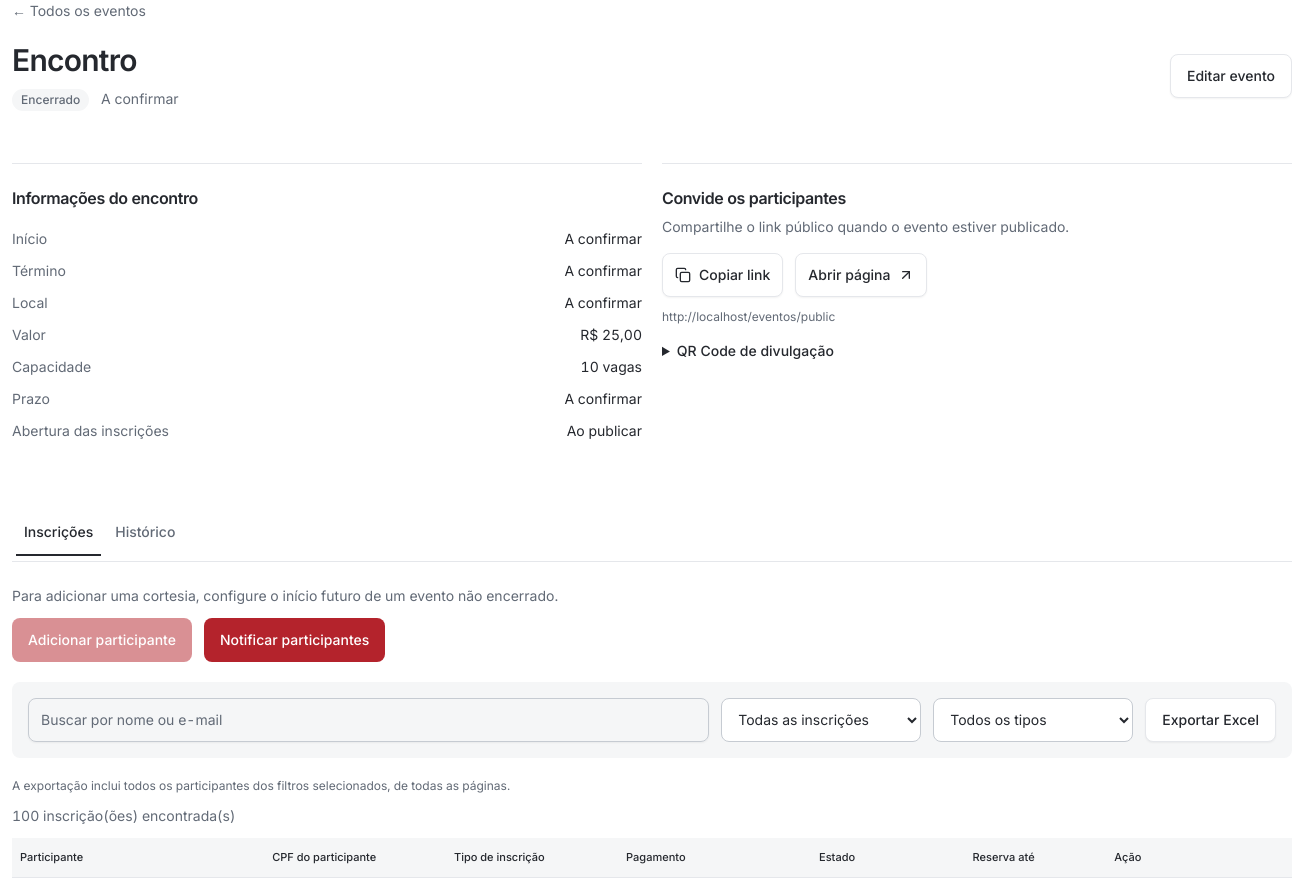
Test: Navegação das abas do evento › retorna à primeira página ao trocar de aba e mantém os filtros das inscrições
Select "Confirmadas" in the dropdown named "Estado da inscrição": (821, 720) [721,698,921,742]
(page scrolled)
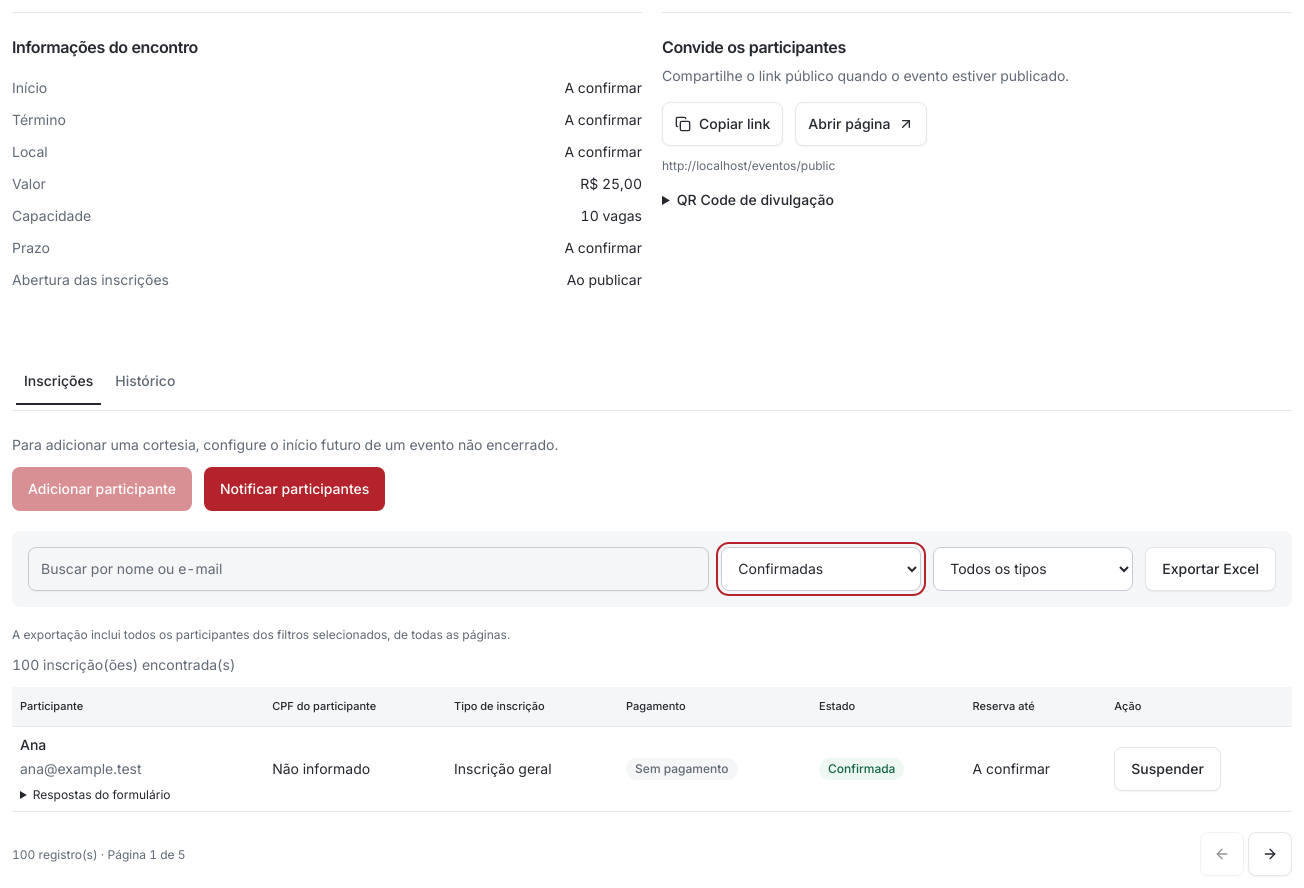
Click the button named "Próxima página": (1270, 854) [1248,832,1292,876]
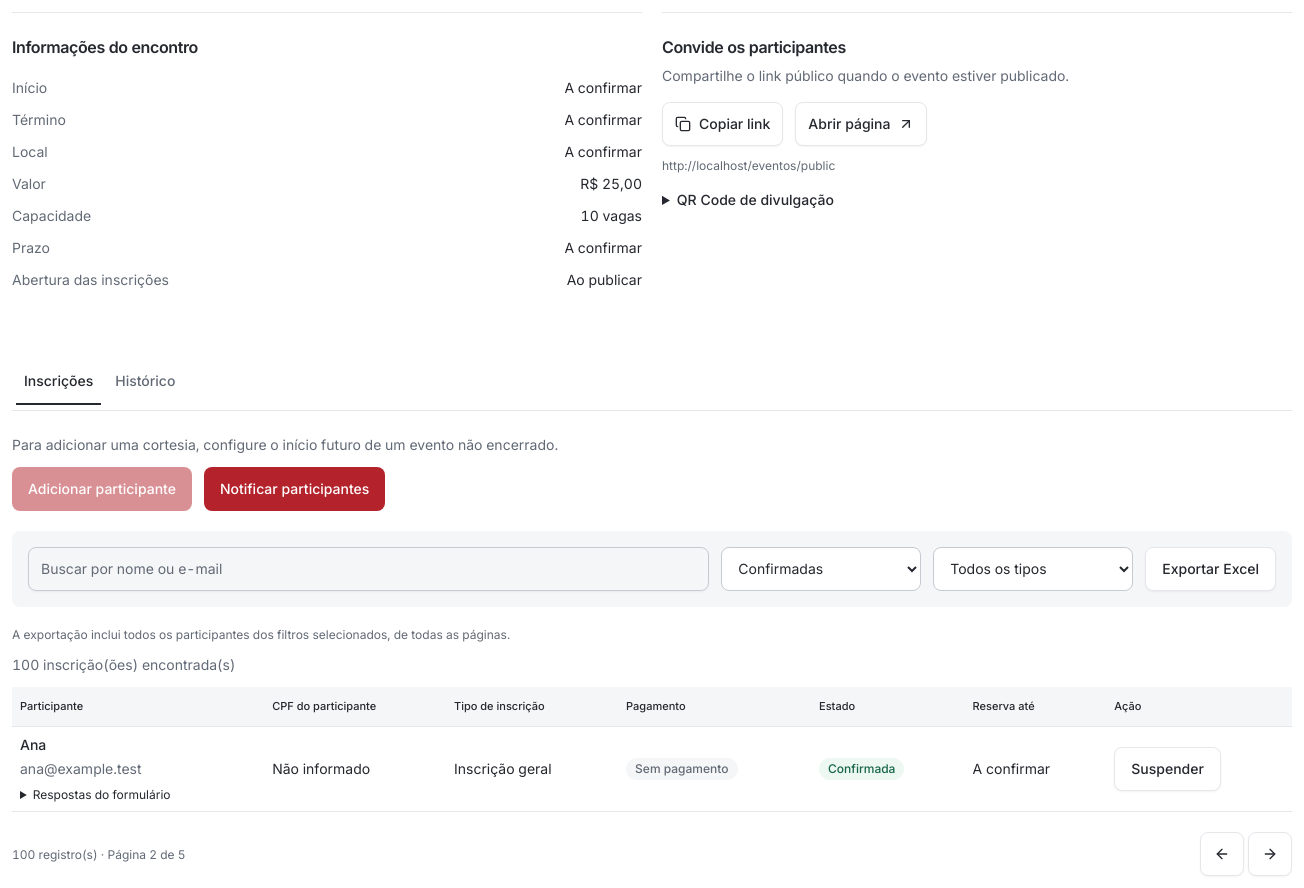
Click the tab "Histórico": (145, 381) [106,361,184,401]
(page scrolled)
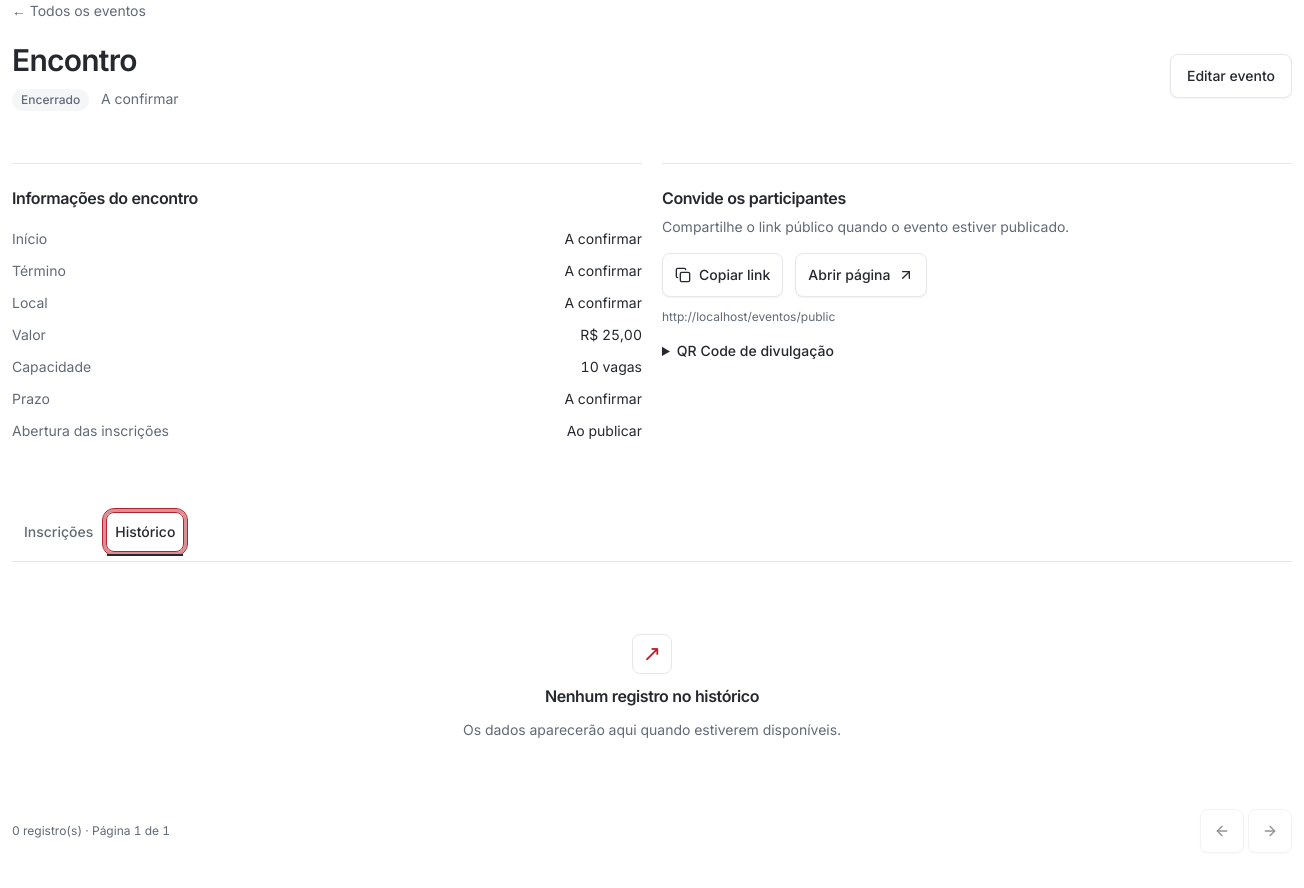
Click the tab "Inscrições": (59, 532) [15,512,102,552]
(page scrolled)
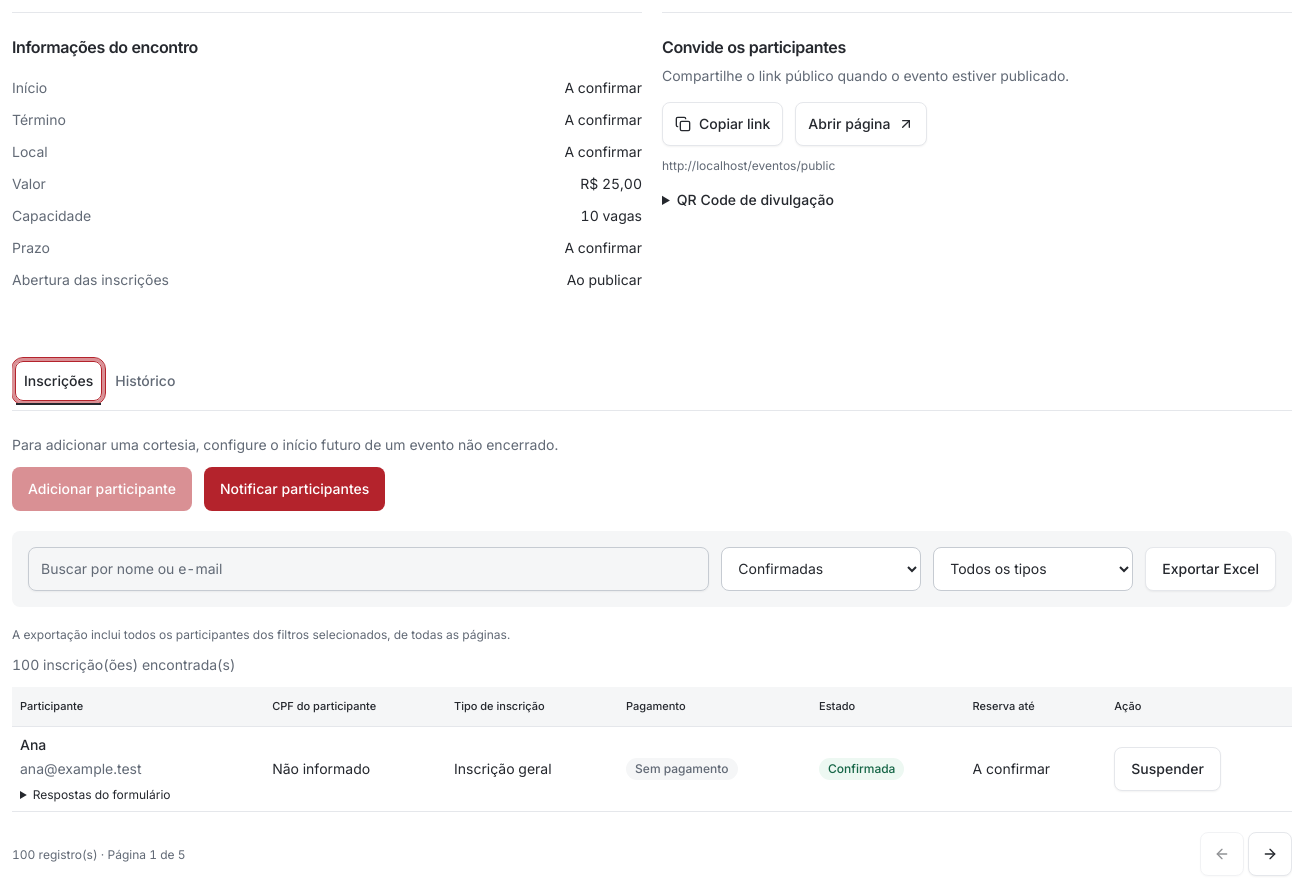
Result: the dropdown named "Estado da inscrição" shows "Confirmadas" at [721,547,921,591]
Result: the text "100 registro(s) · Página 1 de 5" is shown at [12,845,186,864]
